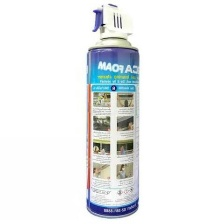aerosol_cans: (81, 1, 143, 220)
